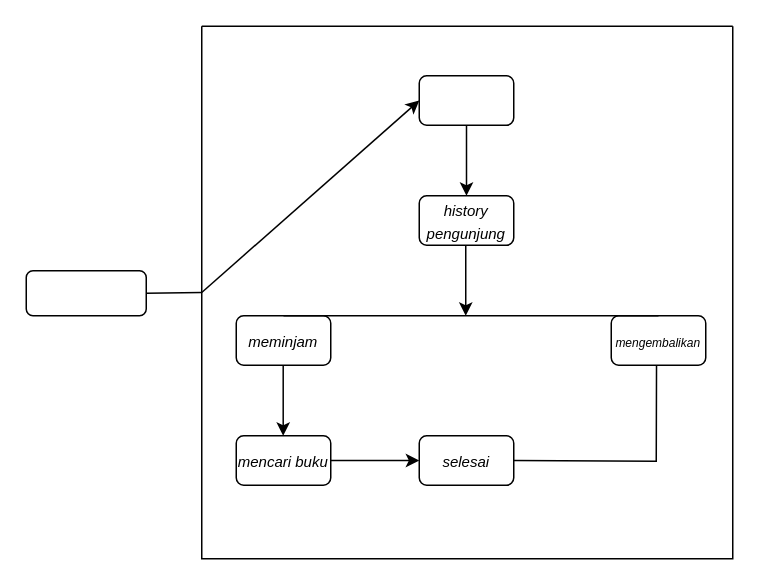
The diagram is 759 pixels wide and 585 high, and some of its shapes have lost their labels. The centre of each missing label's shape, as x and y in pixels:
"mengisi form" belongs at (466,99).
"user" belongs at (85,292).
